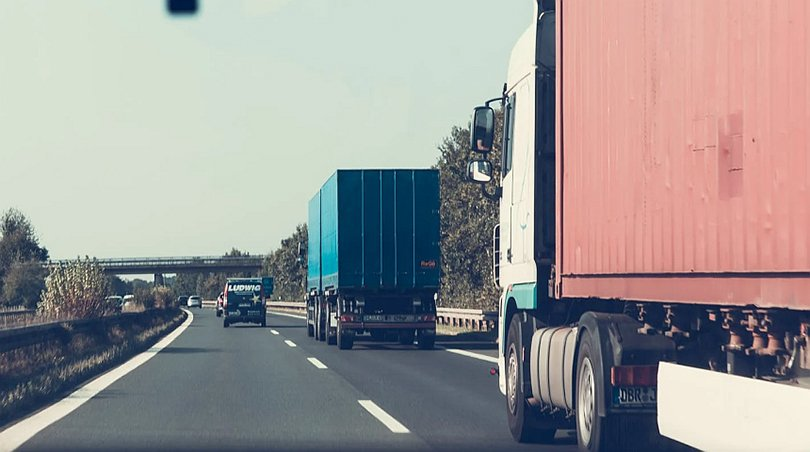car: (223, 280, 267, 327), (187, 296, 202, 308), (178, 295, 187, 306)
truck: (469, 3, 810, 446), (308, 170, 438, 347)
